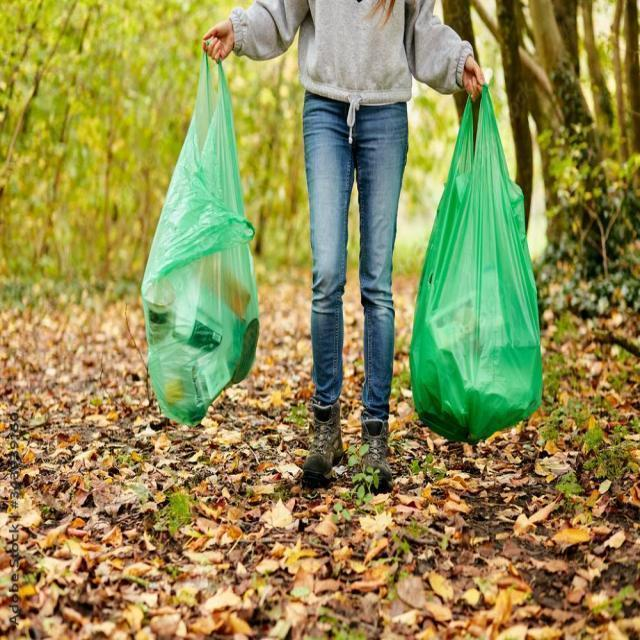KantongPlastik: (110, 73, 278, 431), (408, 74, 544, 444)
